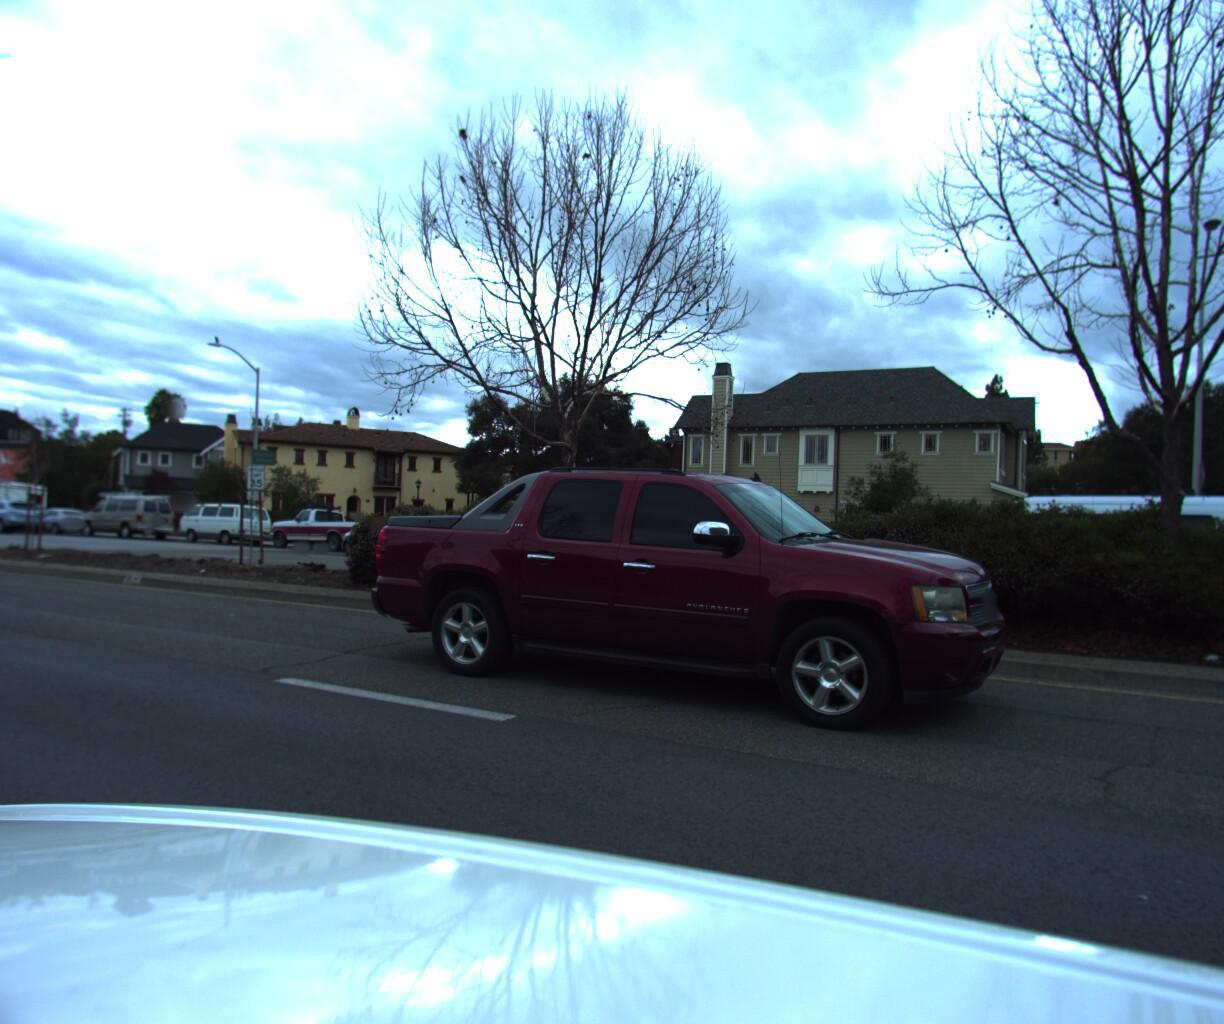car: (348, 450, 1018, 756), (909, 486, 1224, 622), (253, 504, 391, 558), (66, 495, 178, 547), (162, 504, 272, 551), (5, 511, 97, 542), (0, 503, 50, 541)
other_vehicle: (0, 478, 49, 539)
